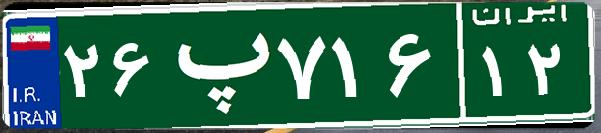1: (330, 28, 385, 110), (475, 38, 525, 113)
2: (57, 26, 110, 107), (525, 38, 570, 115)
6: (385, 28, 445, 110), (110, 28, 158, 105)
7: (273, 28, 330, 110)
پ: (158, 15, 273, 115)
